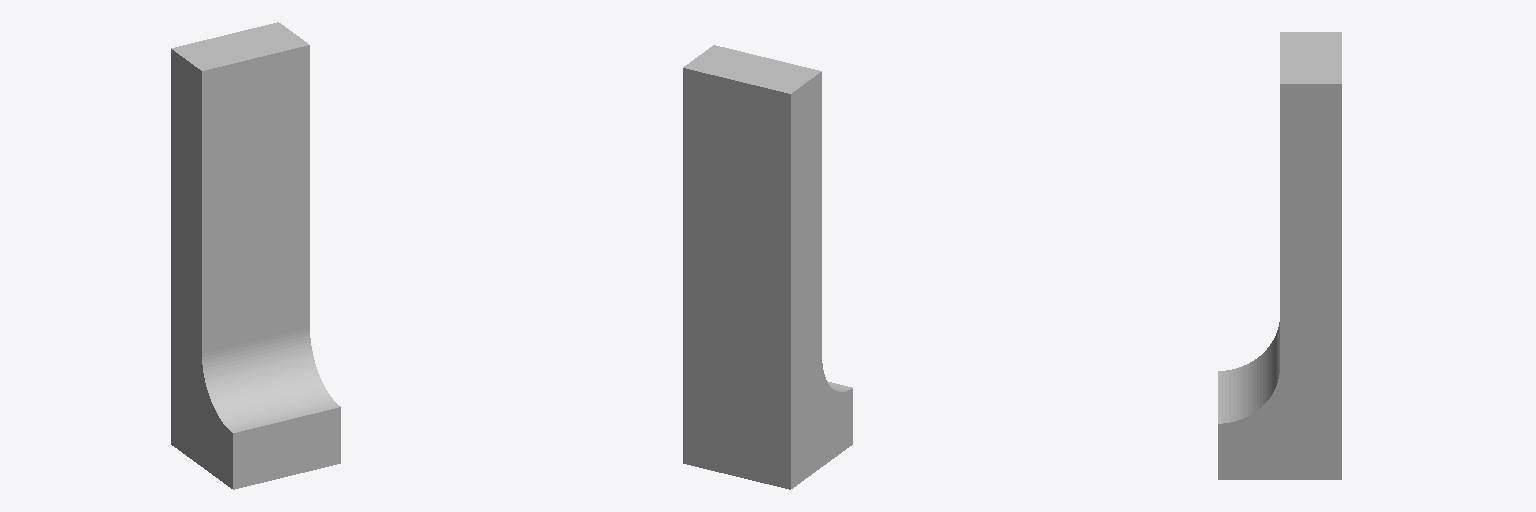
Rendered from tall_ramp.obj.
3 views of the same model, side by side, from view 1: azimuth 30°, elevation 25°; view 2: azimuth 150°, elevation 25°; view 3: azimuth 270°, elevation 25° (orthographic).
Visible parts, largest first — view 1: Cube; view 2: Cube; view 3: Cube.
Part boxes in pixels (x1,y1,x2,y2): Cube: (171, 22, 340, 489); Cube: (683, 45, 852, 489); Cube: (1218, 32, 1341, 479).
Bounding box in the file's own units: 2 × 7 × 2.